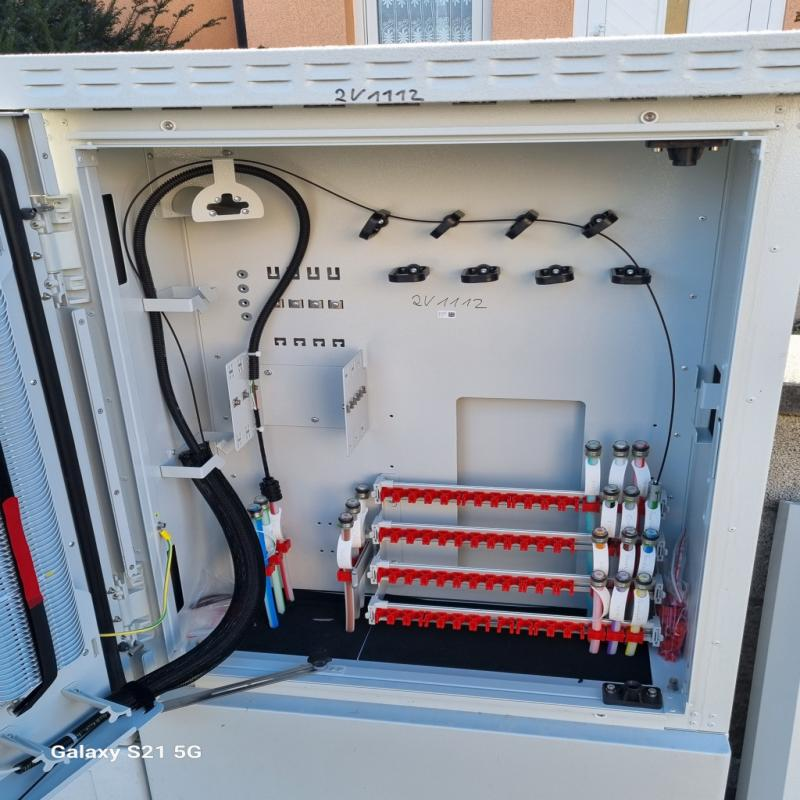NT-Gehause: (0, 27, 800, 800)
Spleiskassetten: (0, 267, 91, 724)
